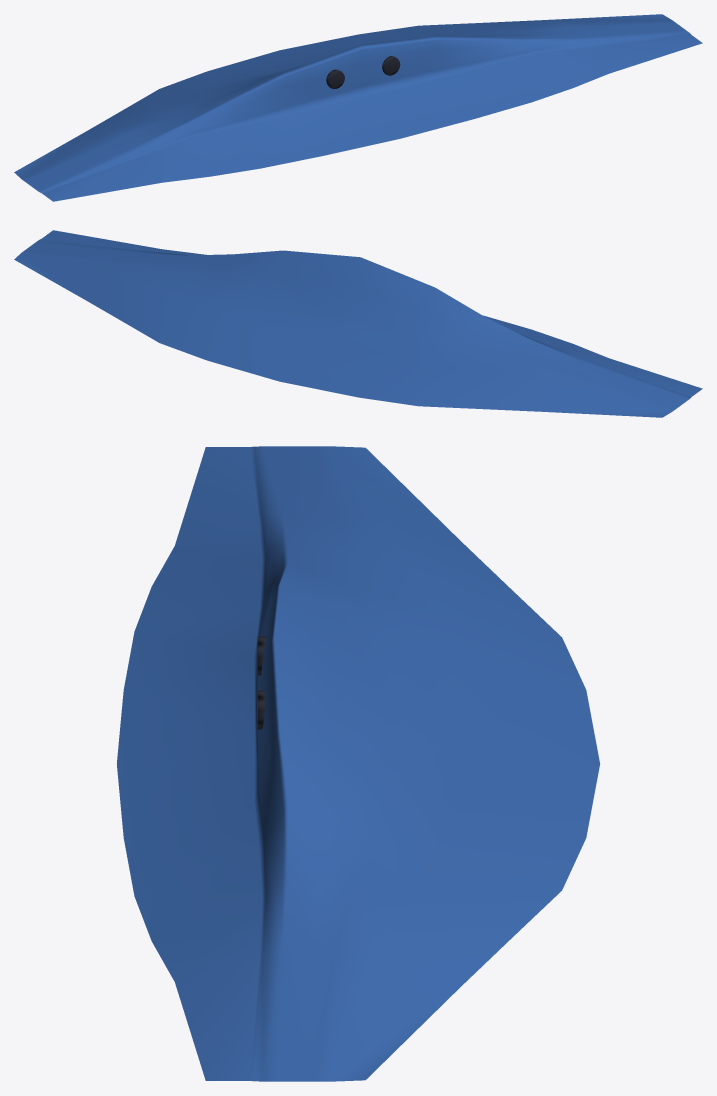
Rendered from playerWave.FBX.
The picture shows the model from 3 angles, top to bottom: view 1: azimuth 30°, elevation 25°; view 2: azimuth 150°, elevation 25°; view 3: azimuth 270°, elevation 25°; orthographic projection. The views are drawn at different scales.
Visible parts, largest first — view 1: Wave; view 2: Wave; view 3: Wave.
Boxes of the visible parts, x1,y1,x2,y2 form: Wave: (14, 14, 702, 201); Wave: (14, 230, 702, 417); Wave: (117, 446, 599, 1081).
Size of the model in its own units: 1.78 by 0.1702 by 0.5736.
